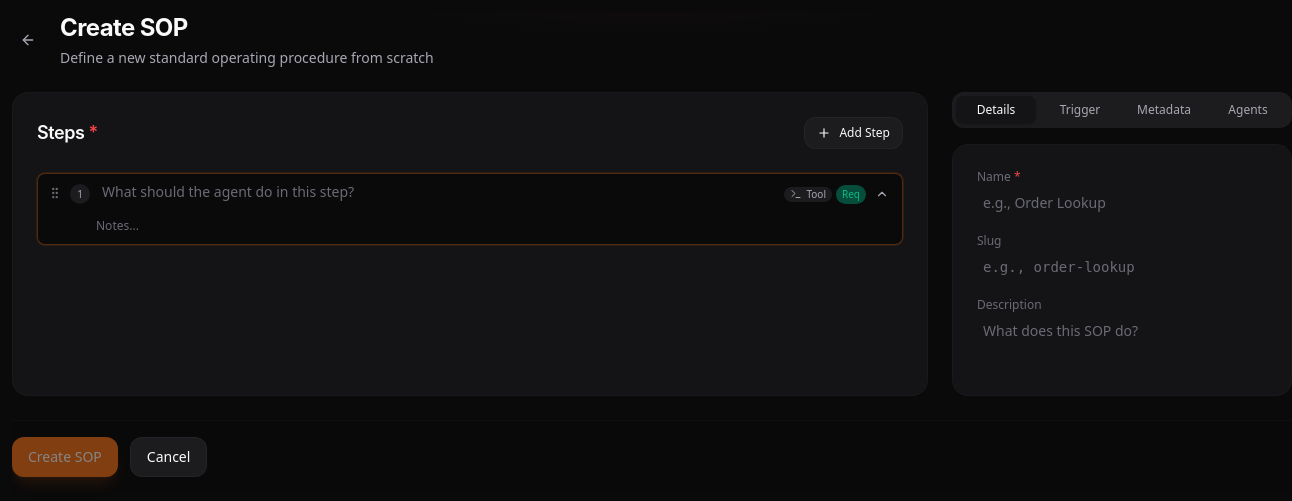
Test: NewSopPage › steps management › adds a new step when Add Step is clicked
Type "First step" into the text box with placeholder "What should the agent do in this step?".
click(437, 192); type("First step")  # box [96, 180, 778, 204]
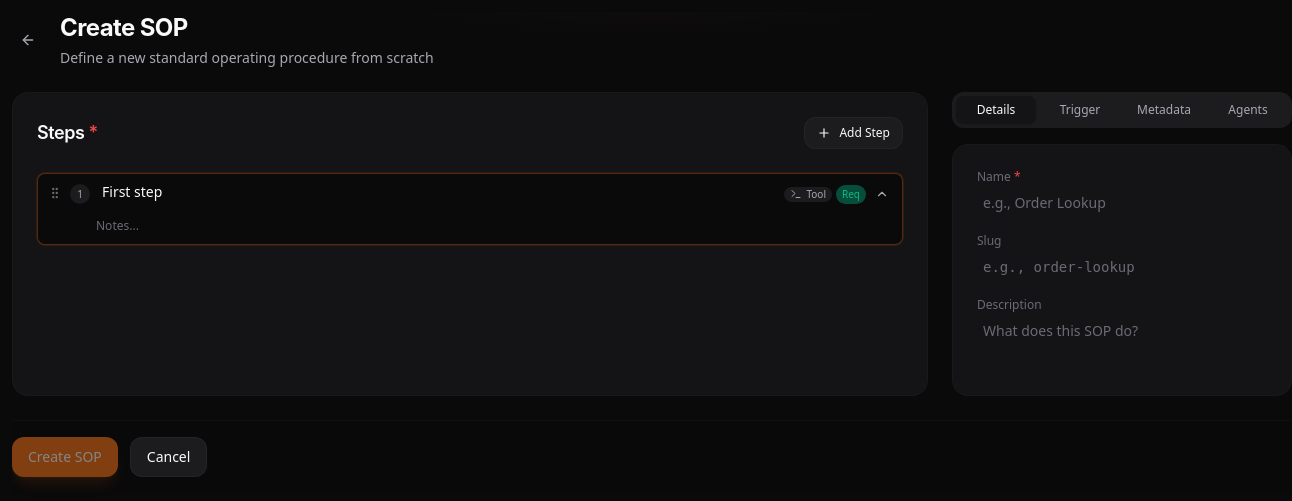
Click the button "Add Step".
click(854, 133)  # box [804, 117, 903, 149]
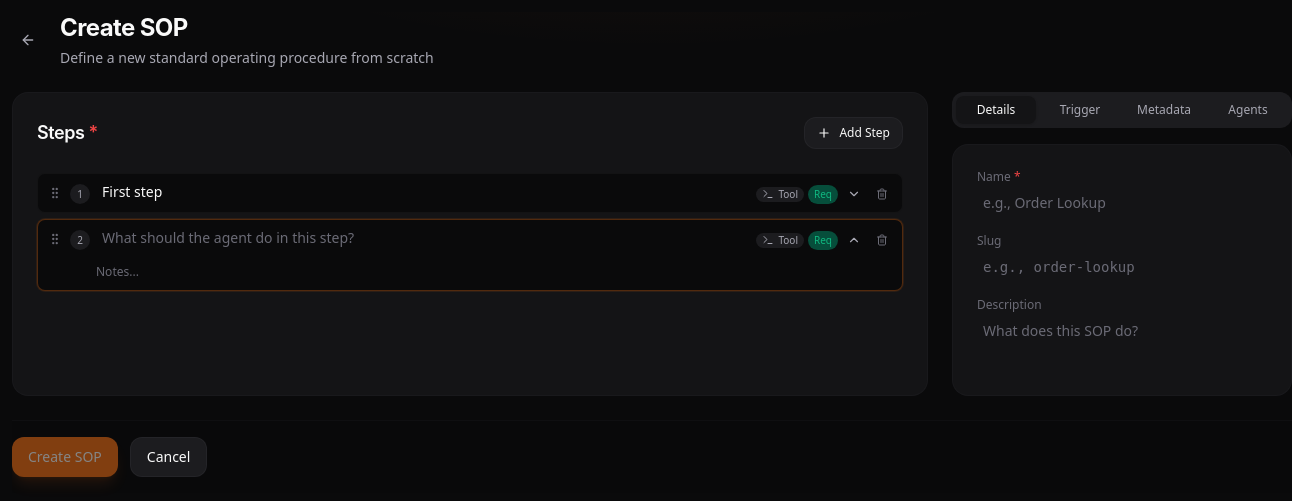
Expected: the number of text boxes with placeholder "What should the agent do in this step?" is 2, [96, 180, 750, 204]; [96, 226, 750, 250]
Expected: the text box with placeholder "What should the agent do in this step?" is empty, [96, 226, 750, 250]
